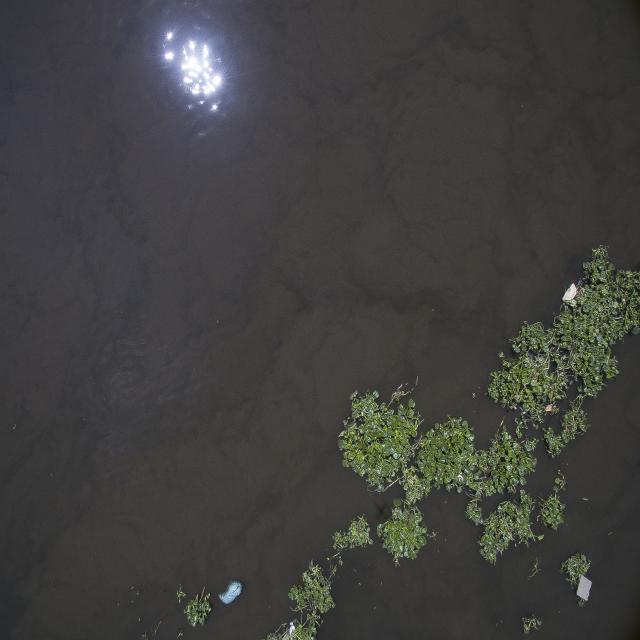Plastic: (216, 576, 244, 606), (576, 572, 590, 604), (560, 282, 578, 300)
